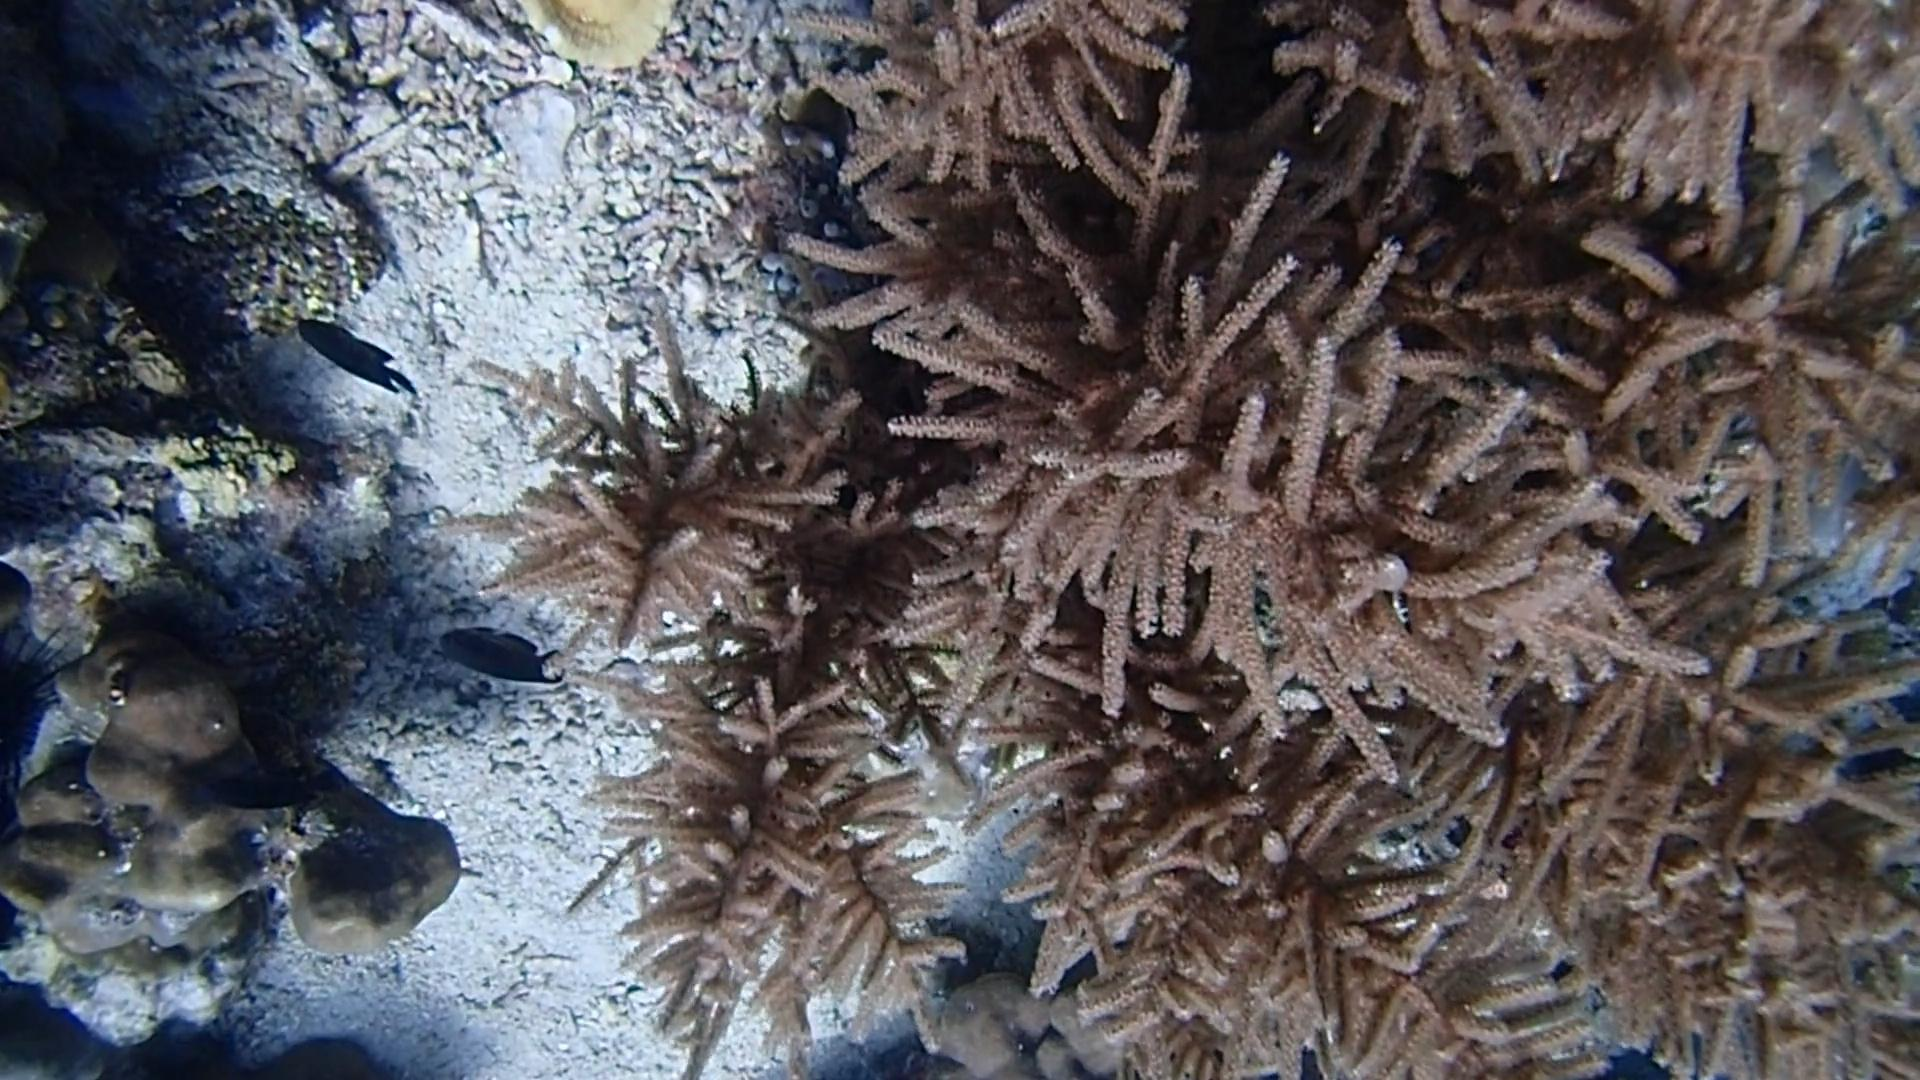Dark Fish: (291, 306, 425, 411), (431, 613, 579, 705), (200, 760, 336, 824)
